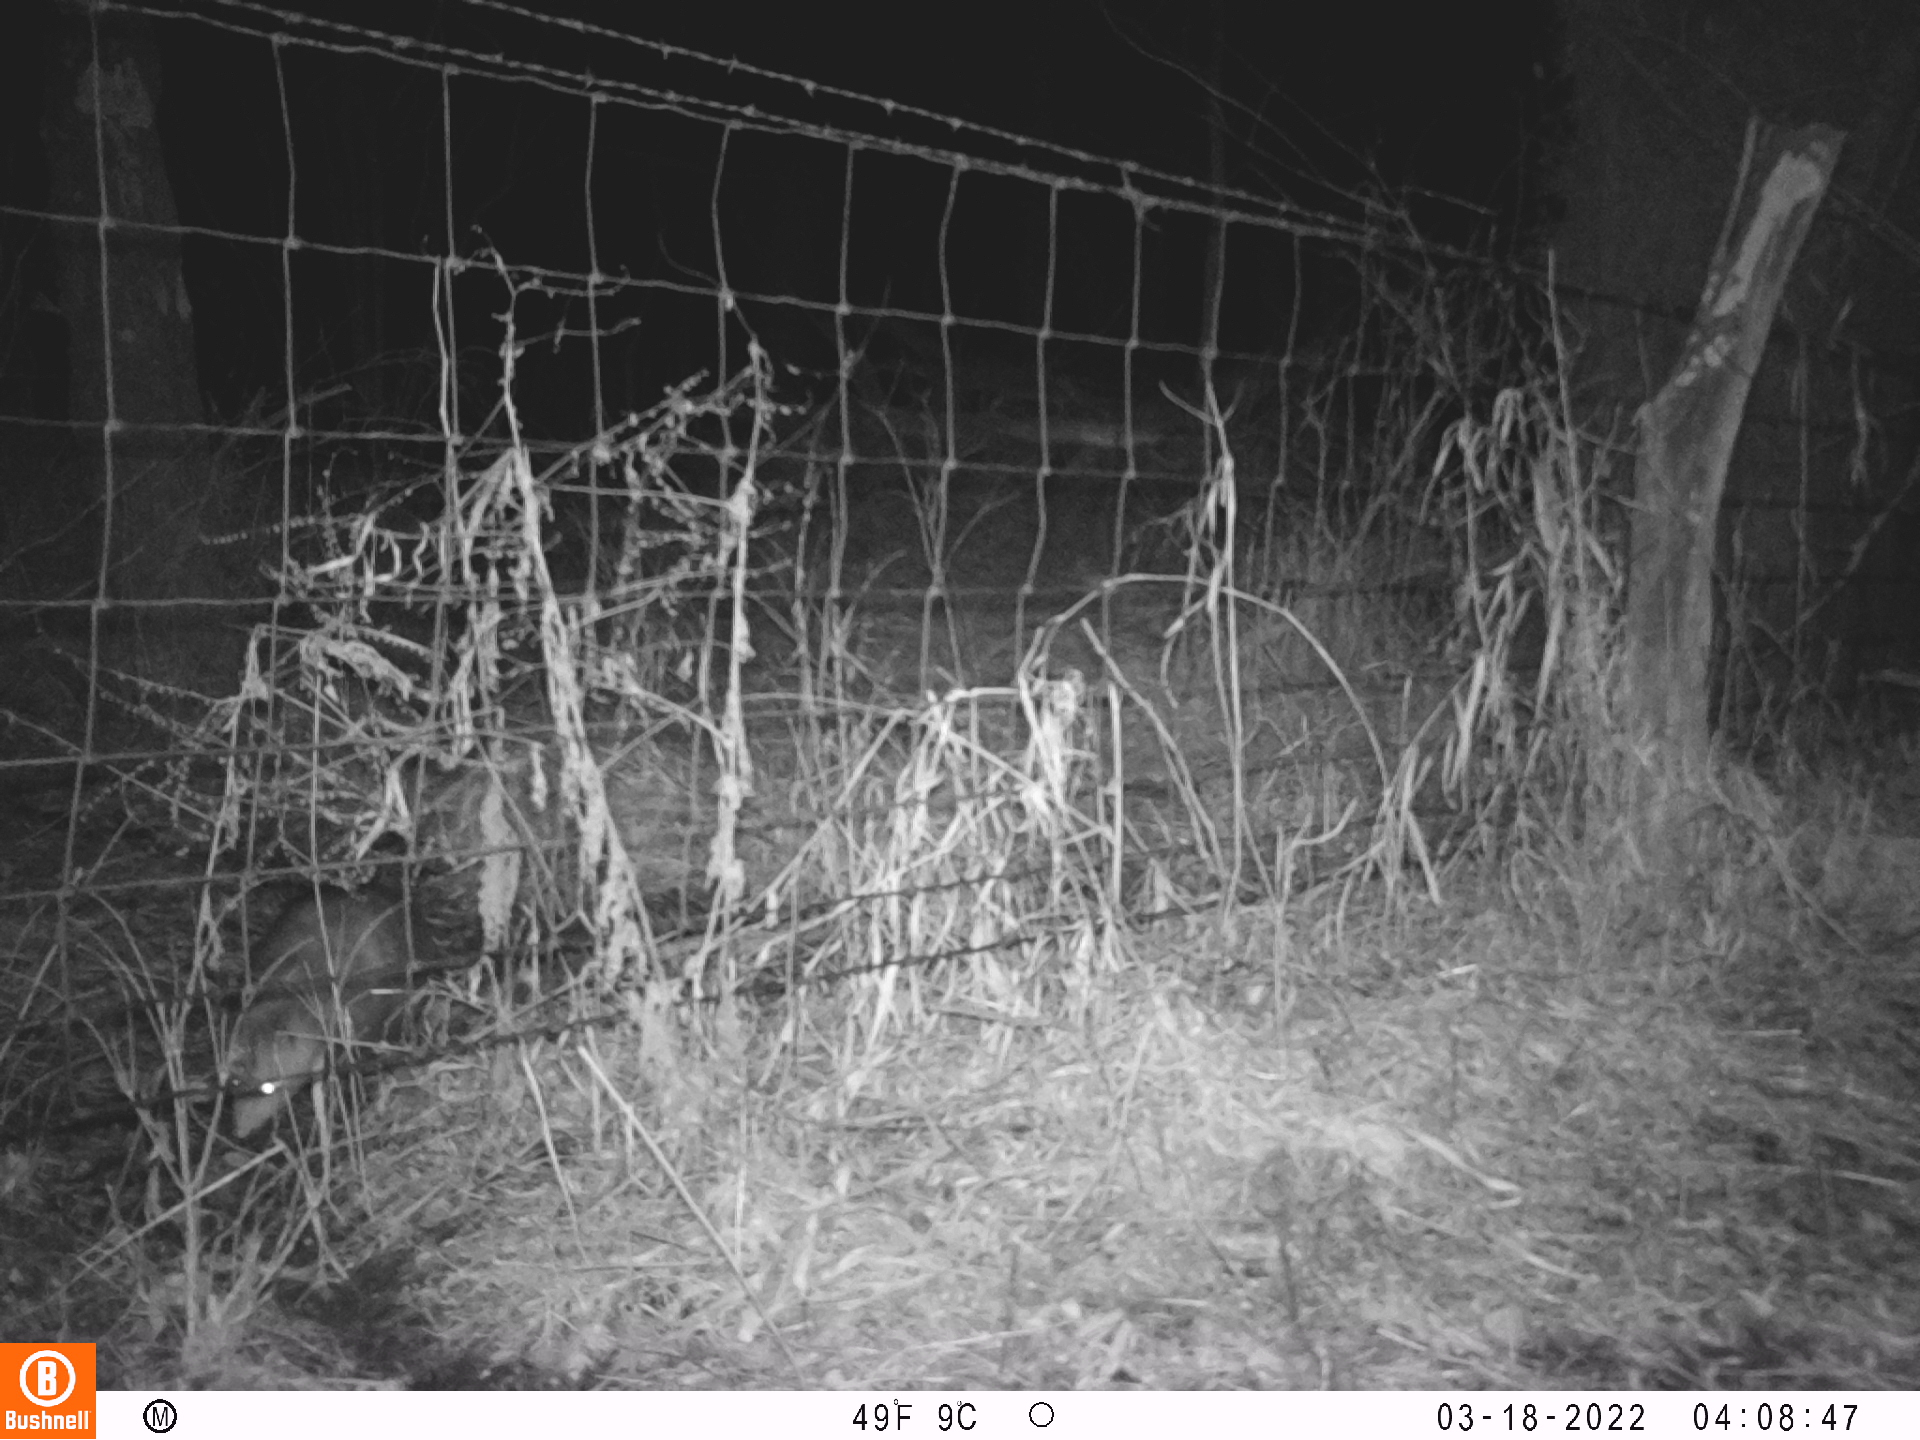Possum: (221, 879, 426, 1141)
